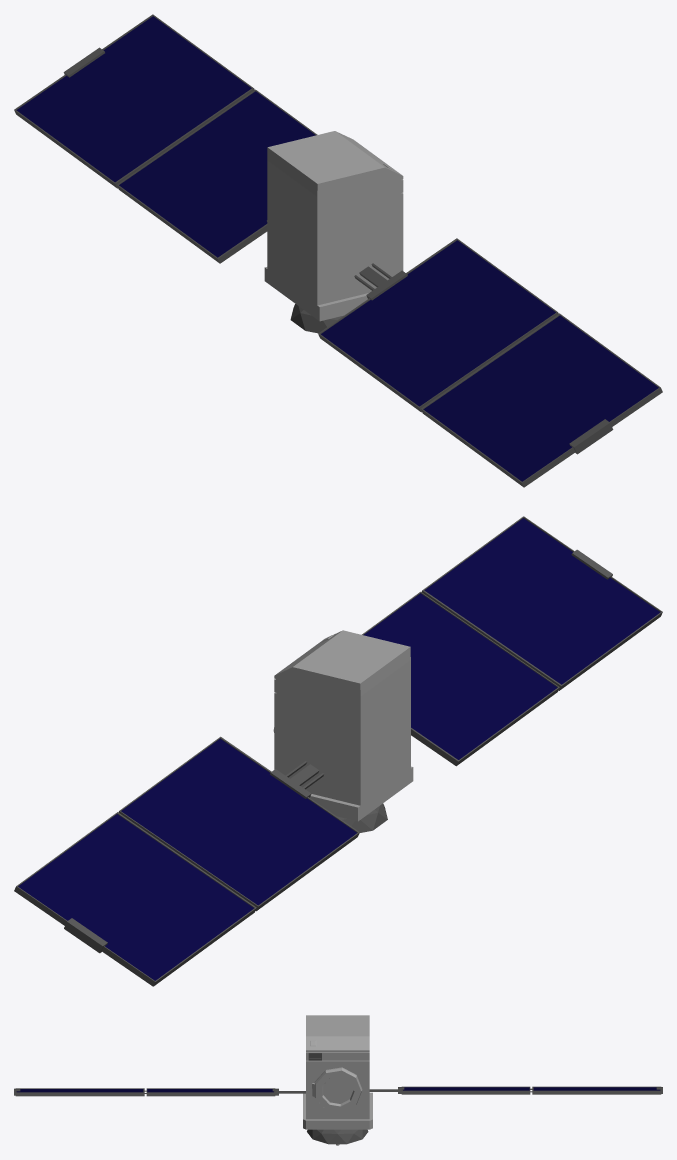
The model's file is Ferdi.obj.
The picture shows the model from 3 angles, top to bottom: view 1: azimuth 30°, elevation 25°; view 2: azimuth 150°, elevation 25°; view 3: azimuth 270°, elevation 25°; orthographic projection. The views are drawn at different scales.
Visible parts, largest first — view 1: Icosphere.001_Icosphere; view 2: Icosphere.001_Icosphere; view 3: Icosphere.001_Icosphere.
Boxes of the visible parts, box(x1,y1,x2,y2) form: Icosphere.001_Icosphere: box(14, 14, 662, 487); Icosphere.001_Icosphere: box(14, 516, 662, 986); Icosphere.001_Icosphere: box(14, 1015, 662, 1145).
Size of the model in its own units: 0.9142 by 1.12 by 5.68.
